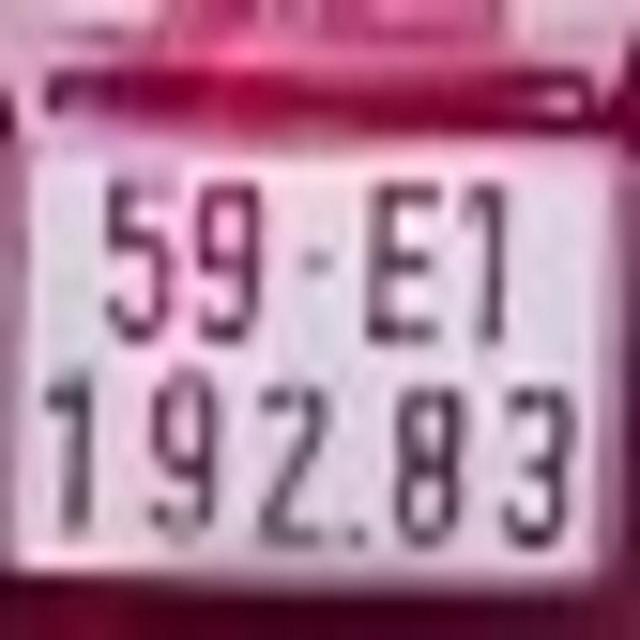1: (41, 360, 107, 533), (458, 174, 514, 348)
2: (253, 376, 331, 546)
3: (496, 376, 574, 555)
5: (106, 164, 174, 350)
8: (387, 372, 465, 556)
9: (190, 168, 268, 354), (140, 368, 216, 539)
E: (356, 169, 443, 353)
